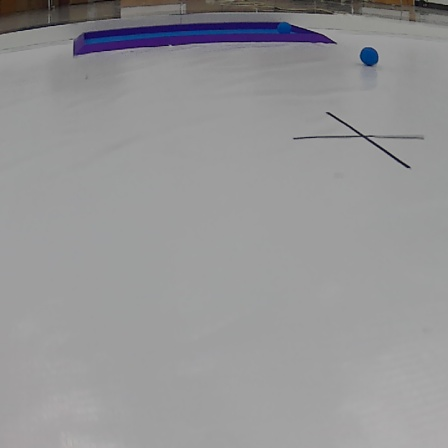blue: (359, 45, 383, 66), (271, 18, 295, 37)
blue_aim: (68, 26, 340, 48)
